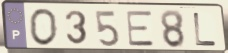3: (64, 9, 88, 46)
5: (93, 8, 122, 47)
8: (159, 8, 187, 50)
E: (125, 10, 157, 48)
L: (192, 12, 219, 48)
O: (28, 7, 60, 48)
